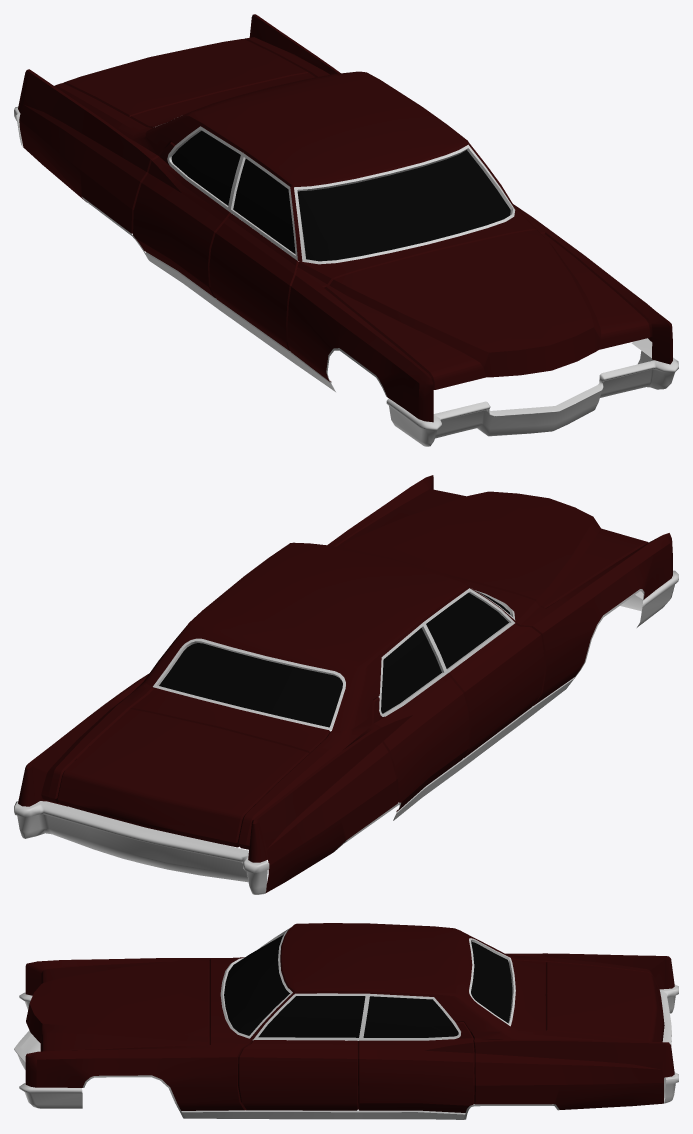
File: bourbon_millenium.fbx
The picture shows the model from 3 angles, top to bottom: view 1: azimuth 30°, elevation 25°; view 2: azimuth 150°, elevation 25°; view 3: azimuth 270°, elevation 25°; orthographic projection. The views are drawn at different scales.
Visible parts, largest first — view 1: Hood_paintable, Roof_unpaintable, Windows, RearFenders_paintable, FrontFenders_paintable, Chrome, Trunk_paintable, RearDoors_paintable, FrontDoors_paintable, Body_paintable; view 2: Roof_unpaintable, Trunk_paintable, Hood_paintable, RearFenders_paintable, Chrome, Windows, FrontFenders_paintable, RearDoors_paintable, FrontDoors_paintable, Body_paintable; view 3: RearFenders_paintable, Hood_paintable, Roof_unpaintable, Windows, FrontFenders_paintable, Chrome, RearDoors_paintable, FrontDoors_paintable, Trunk_paintable, Body_paintable.
Part boxes in pixels (box(x1,y1,x2,y2)): Hood_paintable: box(324, 230, 650, 389); Roof_unpaintable: box(145, 71, 469, 187); Windows: box(171, 130, 510, 261); RearFenders_paintable: box(18, 14, 340, 233); FrontFenders_paintable: box(287, 208, 672, 422); Chrome: box(14, 107, 678, 446); Trunk_paintable: box(63, 39, 308, 117); RearDoors_paintable: box(133, 142, 230, 298); FrontDoors_paintable: box(209, 204, 531, 350); Body_paintable: box(130, 73, 515, 261); Roof_unpaintable: box(145, 542, 468, 731); Trunk_paintable: box(57, 709, 309, 847); Hood_paintable: box(336, 489, 648, 608); RearFenders_paintable: box(18, 673, 397, 893); Chrome: box(14, 570, 678, 894); Windows: box(159, 591, 510, 727); FrontFenders_paintable: box(327, 475, 672, 705); RearDoors_paintable: box(153, 673, 469, 811); FrontDoors_paintable: box(448, 623, 544, 758); Body_paintable: box(130, 587, 515, 753); RearFenders_paintable: box(470, 953, 674, 1109); Hood_paintable: box(26, 959, 209, 1051); Roof_unpaintable: box(280, 923, 510, 1031); Windows: box(224, 934, 512, 1037); FrontFenders_paintable: box(25, 957, 252, 1110); Chrome: box(14, 927, 678, 1119); RearDoors_paintable: box(358, 1022, 474, 1112); FrontDoors_paintable: box(238, 1040, 358, 1110); Trunk_paintable: box(545, 962, 664, 1042); Body_paintable: box(250, 959, 545, 1039).
Size of the model in its own units: 21.71 by 12.06 by 59.94.
